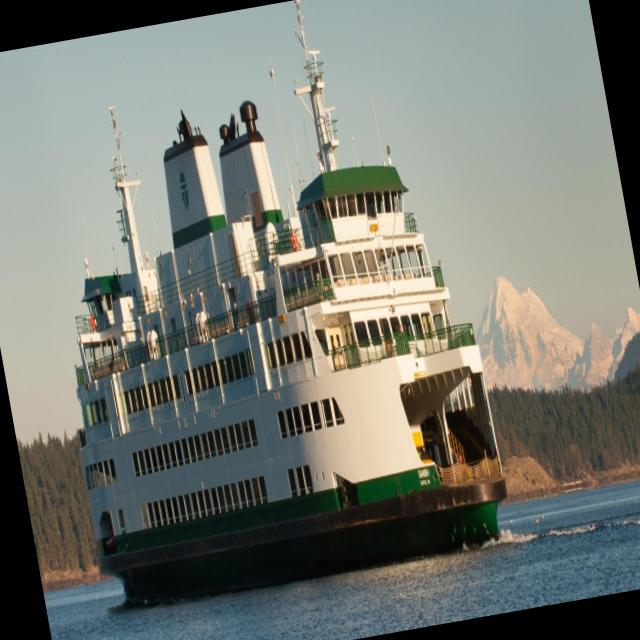boat: (1, 0, 535, 640)
